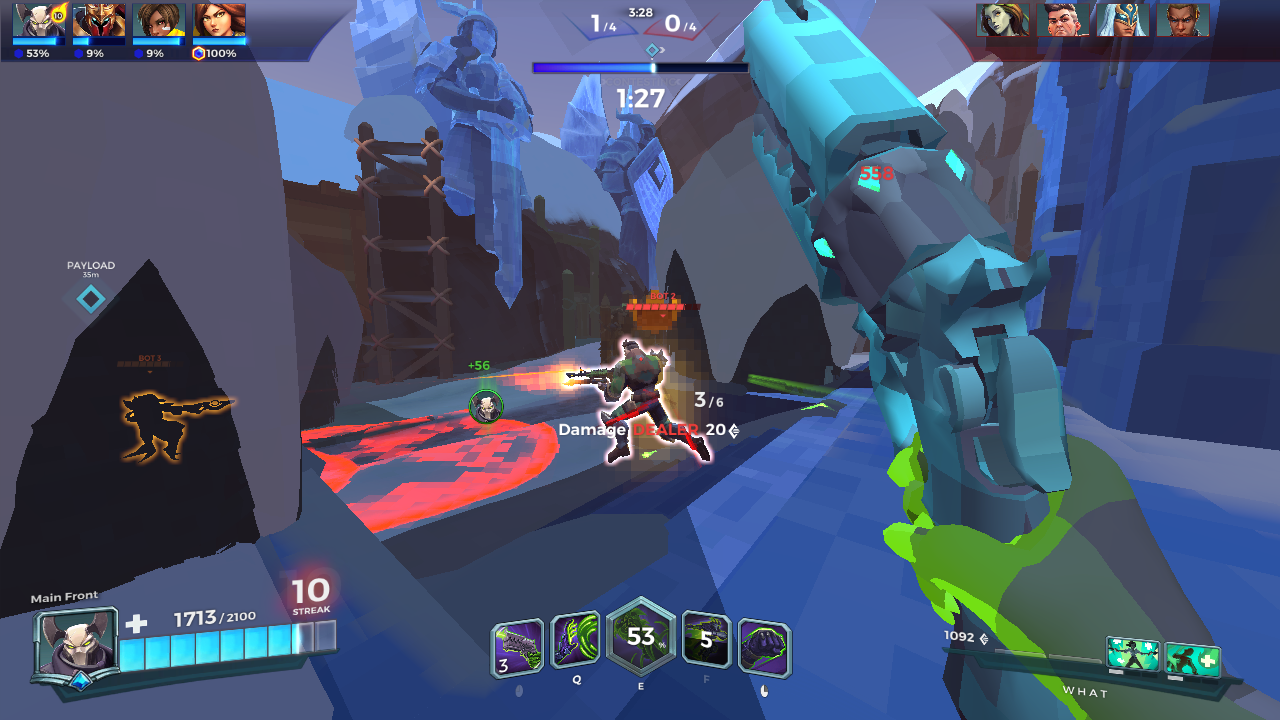model: (590, 330, 718, 466), (118, 384, 243, 460)
